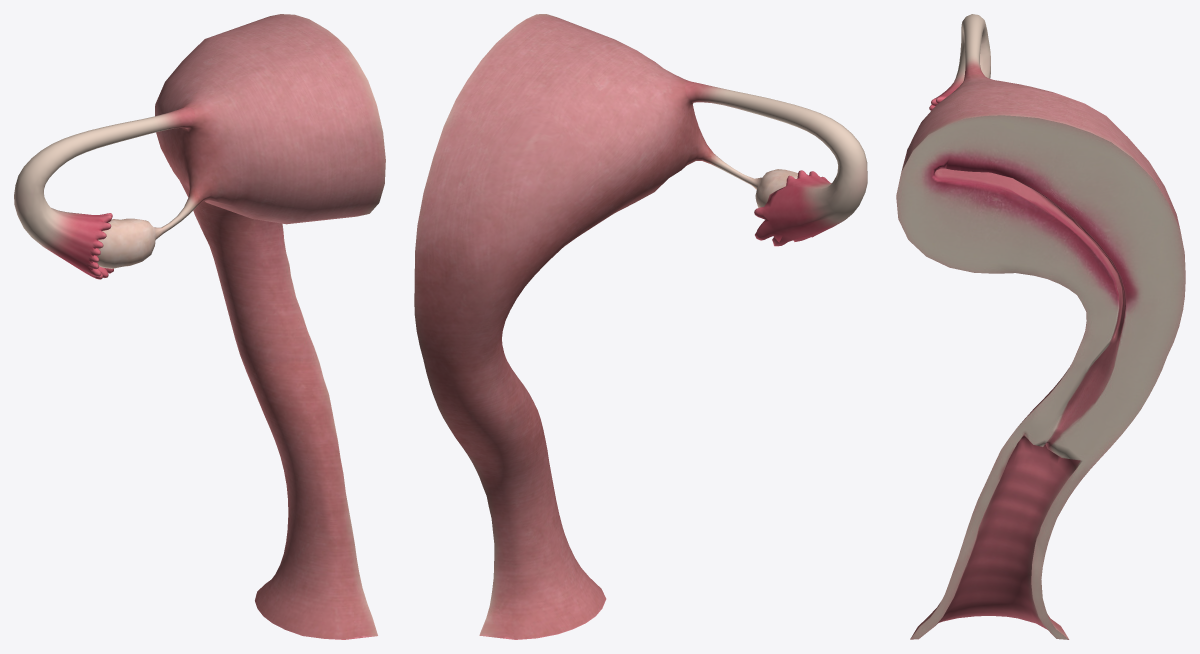
3 views of the same model, side by side, from view 1: azimuth 30°, elevation 25°; view 2: azimuth 150°, elevation 25°; view 3: azimuth 270°, elevation 25° (orthographic). The views are drawn at different scales.
Parts seen in each view (by area): view 1: side_uterus; view 2: side_uterus; view 3: side_uterus.
Boxes of the visible parts, x1,y1,x2,y2 form: side_uterus: (14, 14, 385, 639); side_uterus: (414, 14, 867, 639); side_uterus: (896, 14, 1185, 639).
Bounding box in the file's own units: 7.03 × 11.64 × 5.82.
1 material, 1 textured.
